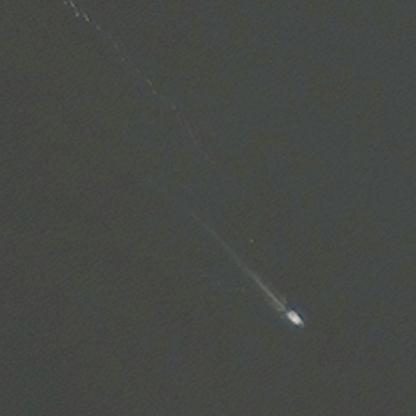ship: (270, 292, 310, 330)
